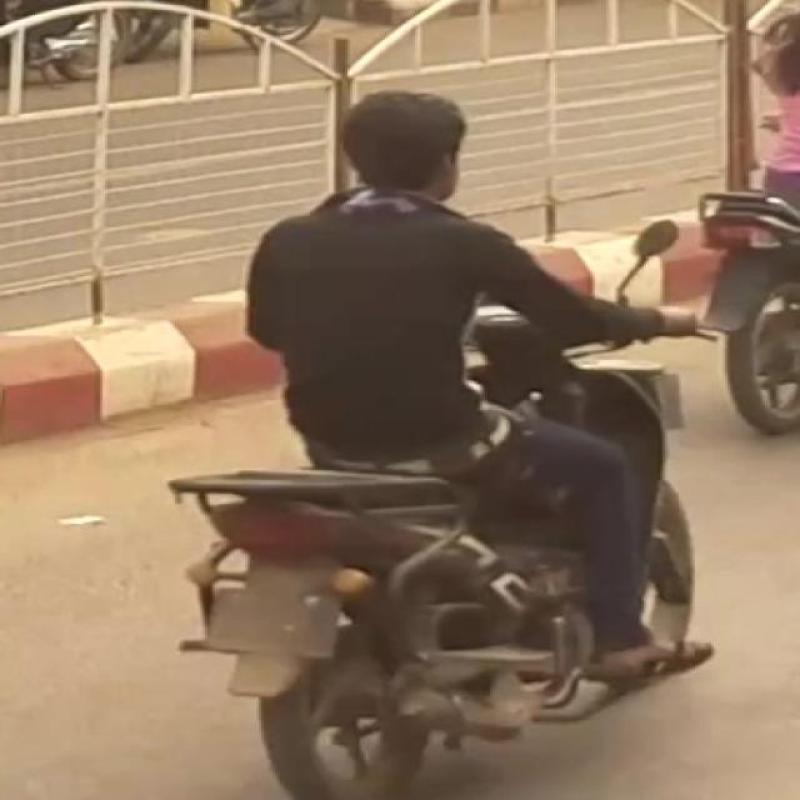nohelmet: (316, 76, 516, 209)
